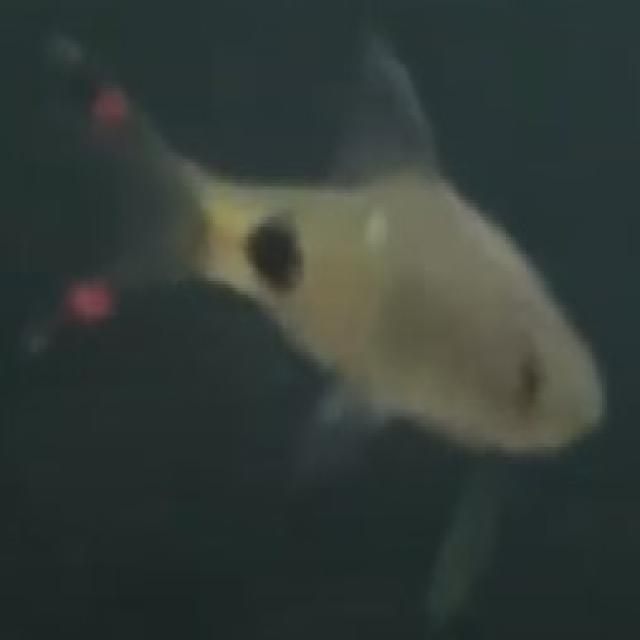Black-Spotted-Barb: (36, 27, 636, 555)
